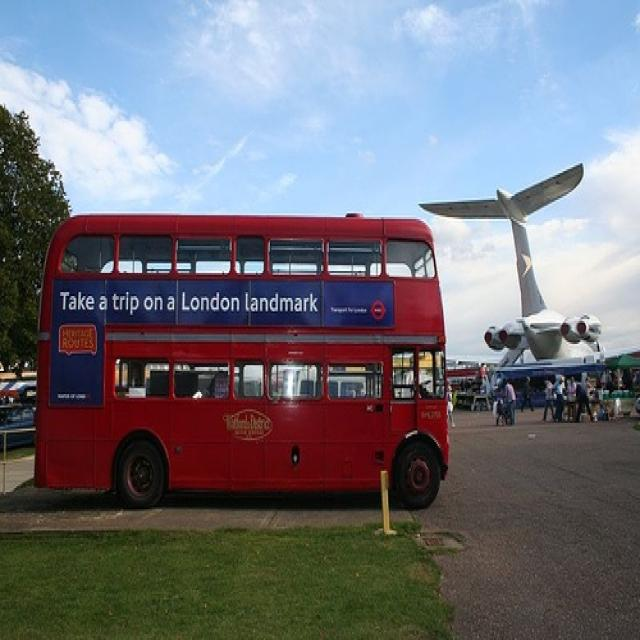light_vehicle: (1, 407, 35, 450)
